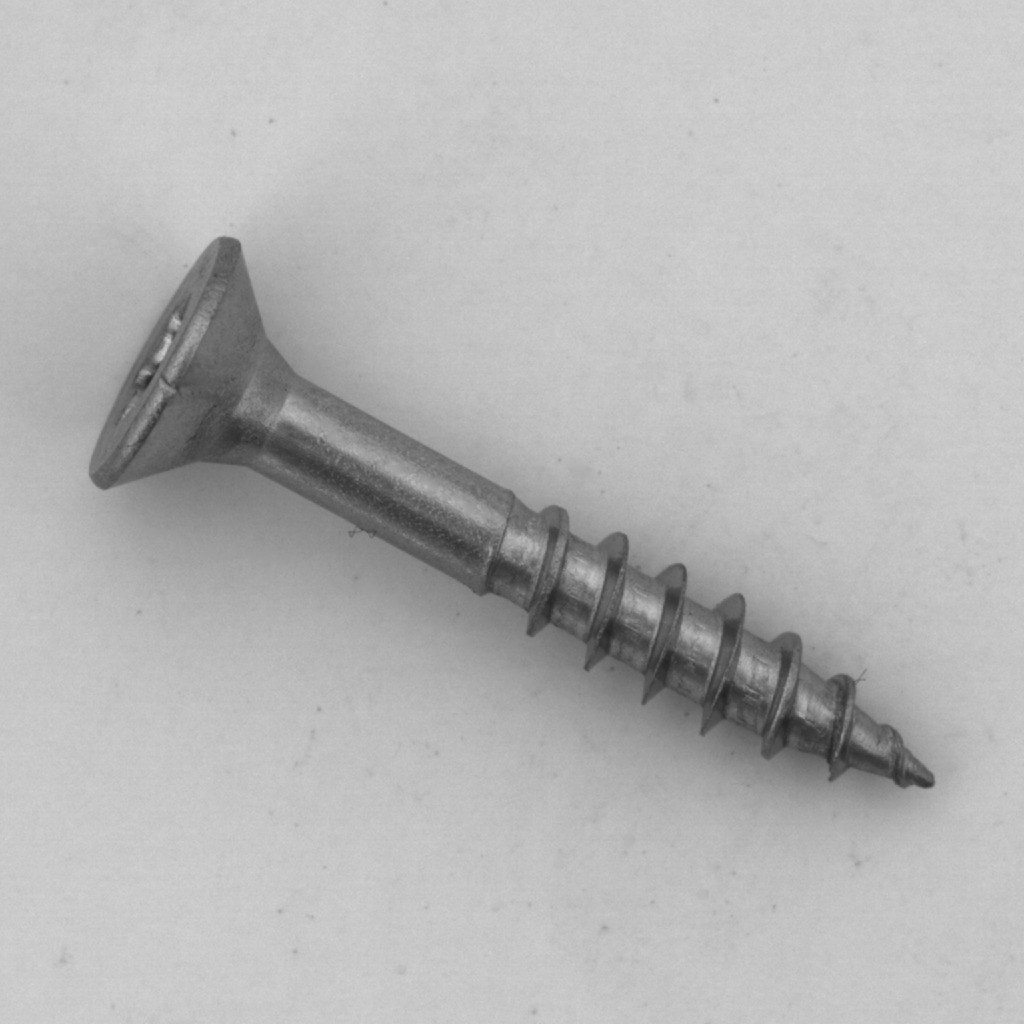good: (64, 217, 956, 803)
